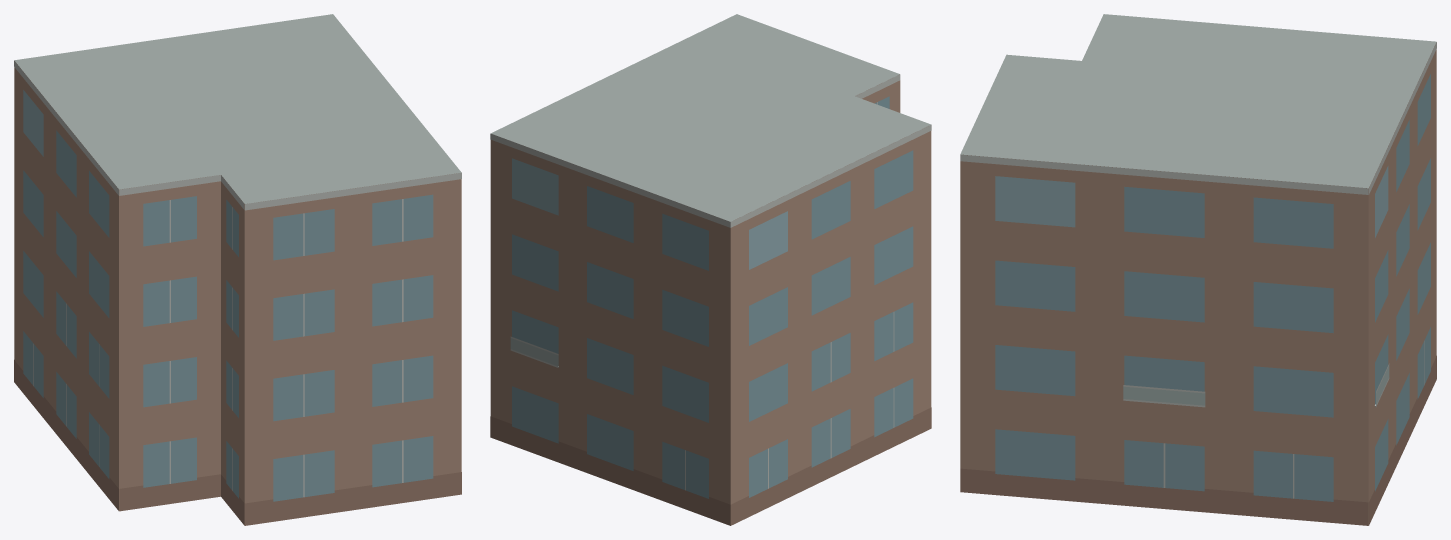
The model's file is residential-be7873fd-73f7-482e-b0cc-2fe8cc22f63c.glb.
3 views of the same model, side by side, from view 1: azimuth 30°, elevation 25°; view 2: azimuth 150°, elevation 25°; view 3: azimuth 270°, elevation 25° (orthographic). The views are drawn at different scales.
Parts seen in each view (by area): view 1: residential-be7873fd-73f7-482e-b0cc-2fe8cc22f63c.tmp; view 2: residential-be7873fd-73f7-482e-b0cc-2fe8cc22f63c.tmp; view 3: residential-be7873fd-73f7-482e-b0cc-2fe8cc22f63c.tmp.
Boxes of the visible parts, box(x1,y1,x2,y2) form: residential-be7873fd-73f7-482e-b0cc-2fe8cc22f63c.tmp: box(14, 14, 461, 525); residential-be7873fd-73f7-482e-b0cc-2fe8cc22f63c.tmp: box(490, 14, 931, 525); residential-be7873fd-73f7-482e-b0cc-2fe8cc22f63c.tmp: box(960, 14, 1436, 525).
Size of the model in its own units: 13.52 by 12.2 by 15.62.
